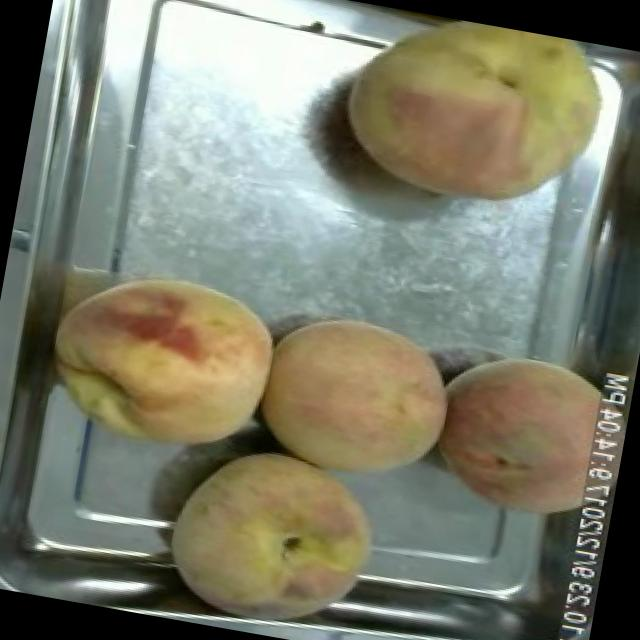Fruit: (321, 1, 630, 237), (31, 245, 296, 474), (151, 425, 400, 640), (243, 296, 470, 490), (416, 332, 604, 535)
